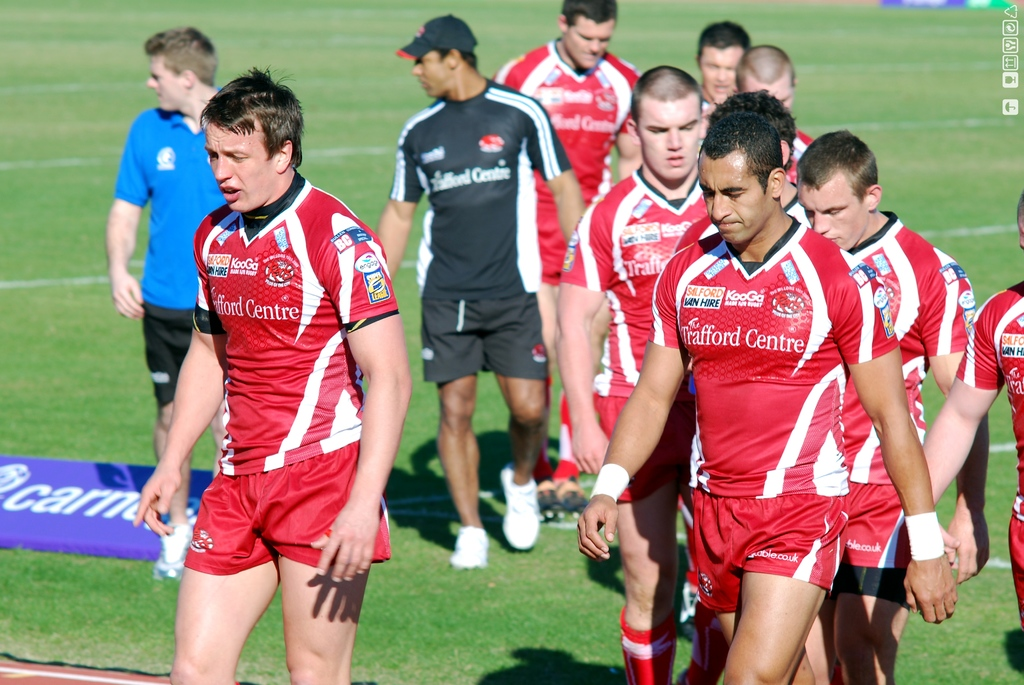Person: (105, 0, 1023, 685)
